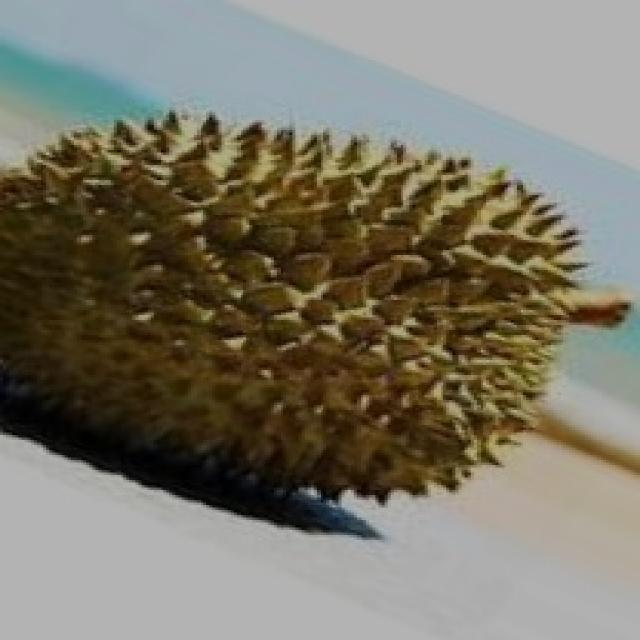fruit: (0, 68, 351, 528), (308, 125, 634, 557)
